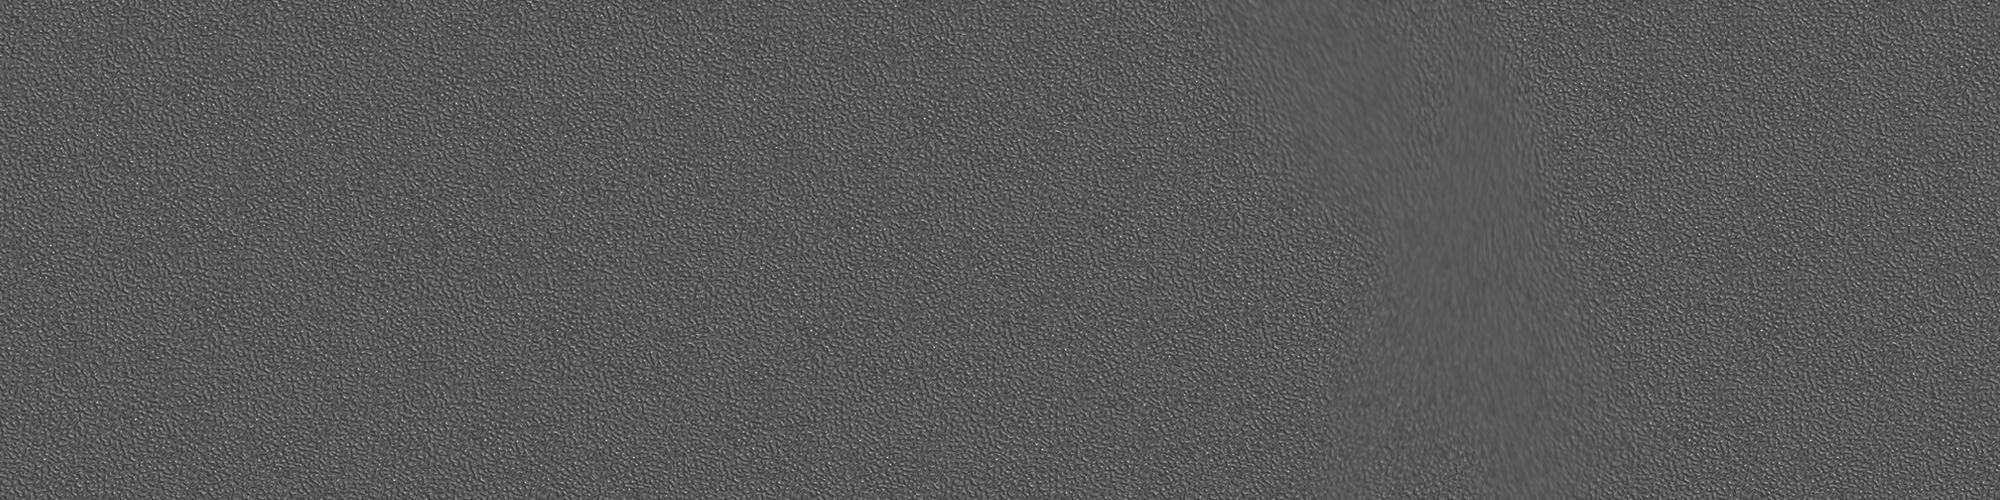Flow_Lines: (1162, 6, 1638, 496)
